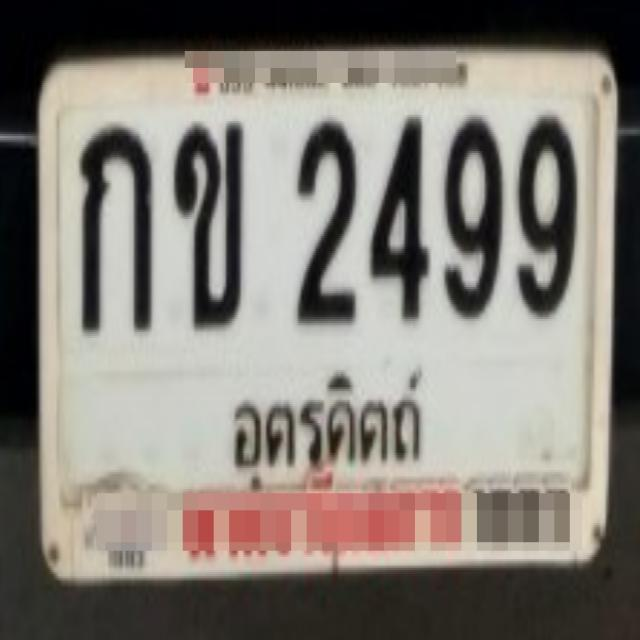2: (277, 114, 360, 328)
4: (366, 113, 432, 326)
9: (438, 112, 507, 324), (513, 111, 581, 325)
A01: (61, 116, 164, 341)
A02: (170, 115, 252, 341)
UTT: (217, 370, 456, 487)
